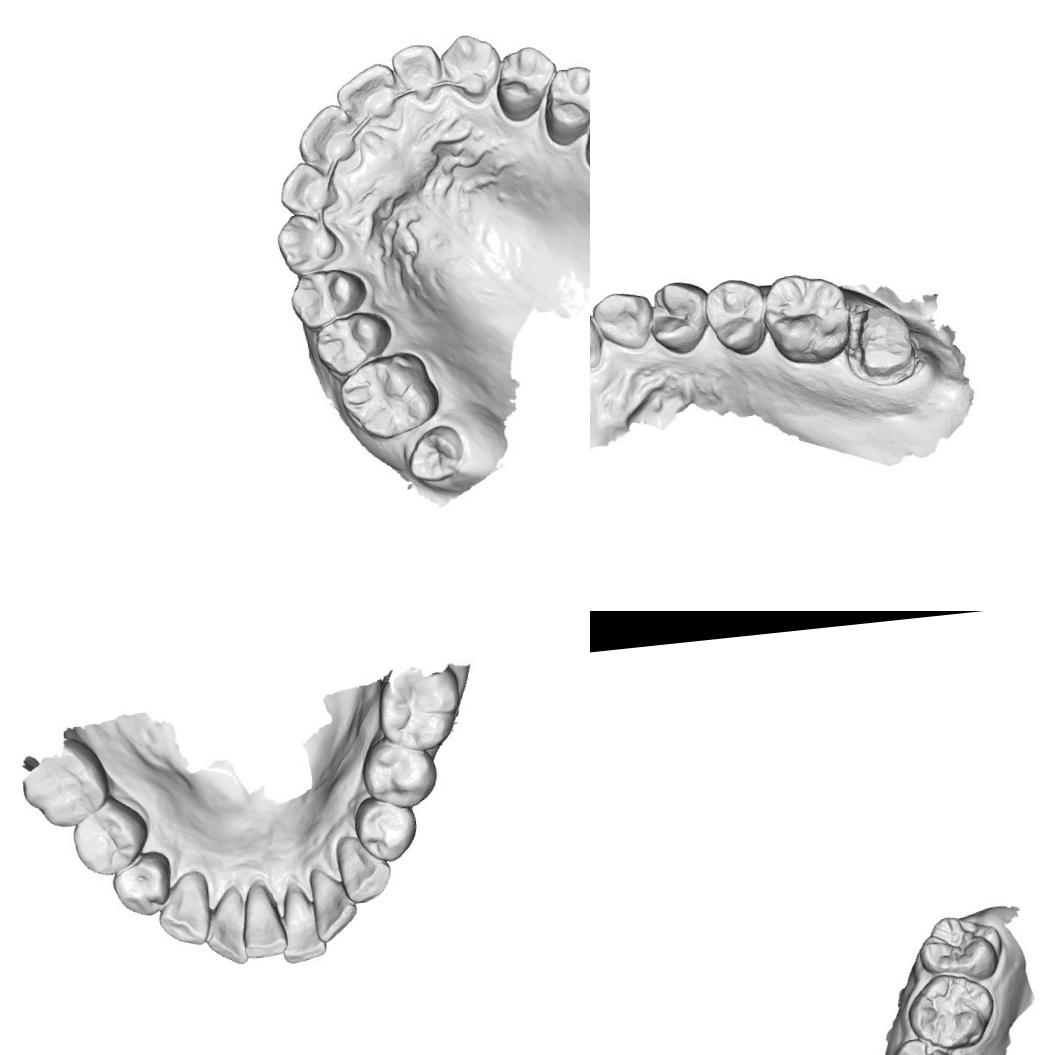canine: (328, 828, 393, 902), (152, 861, 212, 941), (592, 285, 658, 355), (442, 29, 504, 100), (276, 214, 346, 276)
crown: (844, 288, 930, 382)
incisor: (202, 874, 260, 964), (236, 873, 294, 961), (296, 104, 366, 169), (336, 60, 406, 124), (302, 864, 361, 939), (276, 881, 328, 965), (391, 41, 445, 106), (276, 161, 340, 214), (590, 301, 609, 368)
molar: (12, 735, 115, 834), (334, 350, 441, 444), (377, 657, 468, 757), (762, 268, 850, 361), (903, 970, 1000, 1054), (913, 910, 1007, 986)
premolar: (68, 797, 148, 880), (362, 731, 442, 811), (290, 258, 370, 334), (644, 278, 714, 361), (312, 310, 394, 380), (492, 42, 558, 124), (702, 276, 768, 352), (351, 795, 421, 866), (111, 847, 176, 917), (541, 60, 590, 147), (886, 1033, 960, 1055)
